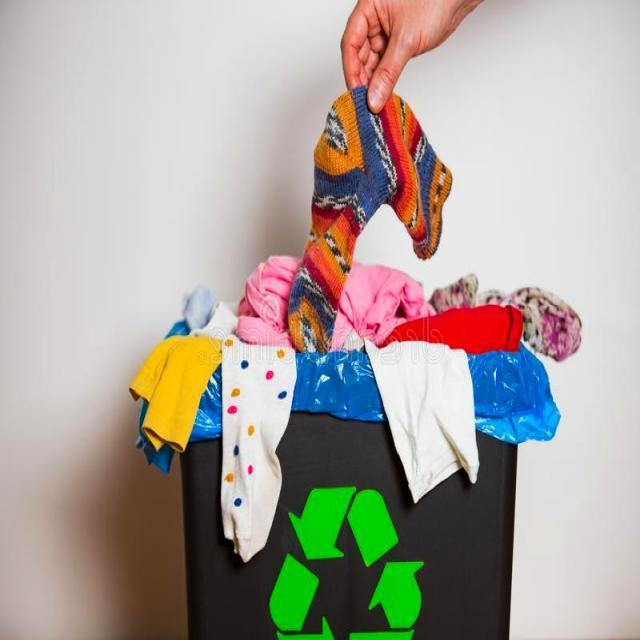clothes: (302, 117, 443, 380)
